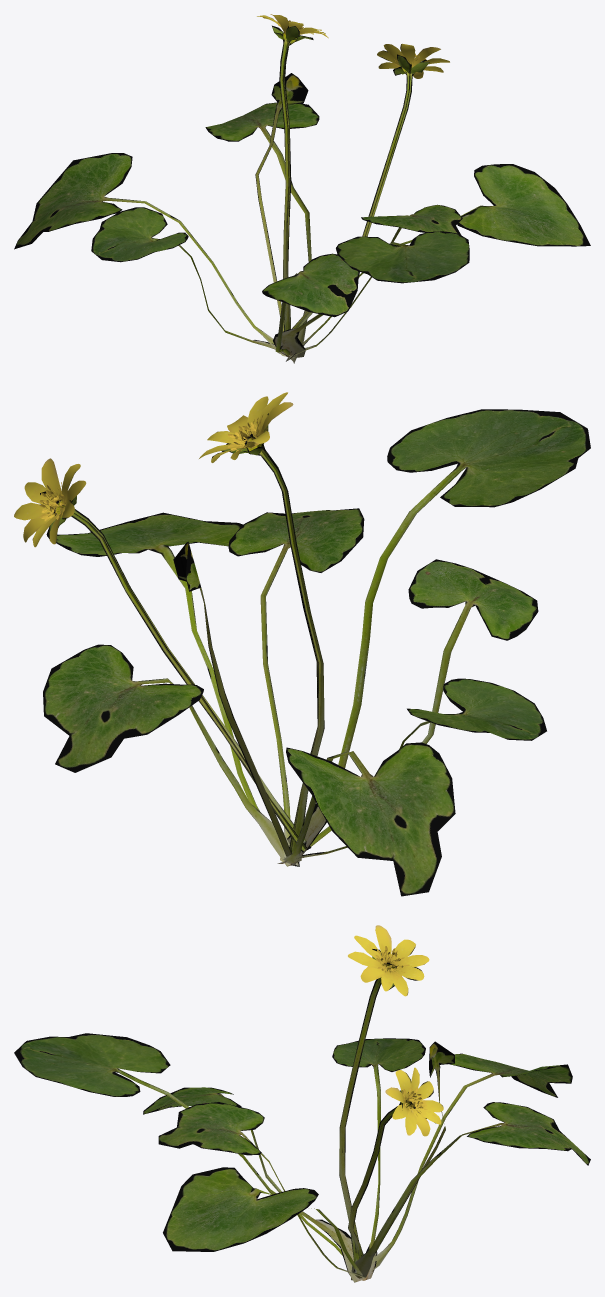
File: Planta_4.glb
The picture shows the model from 3 angles, top to bottom: view 1: azimuth 30°, elevation 25°; view 2: azimuth 150°, elevation 25°; view 3: azimuth 270°, elevation 25°; orthographic projection. The views are drawn at different scales.
Parts seen in each view (by area): view 1: Planta 4; view 2: Planta 4; view 3: Planta 4.
Boxes of the visible parts, bbox=[...] form: Planta 4: bbox=[14, 14, 590, 363]; Planta 4: bbox=[14, 392, 590, 896]; Planta 4: bbox=[14, 925, 590, 1282].
Bounding box in the file's own units: 0.3361 × 0.2691 × 0.4013.
Materials: 1 (1 with a texture image).
